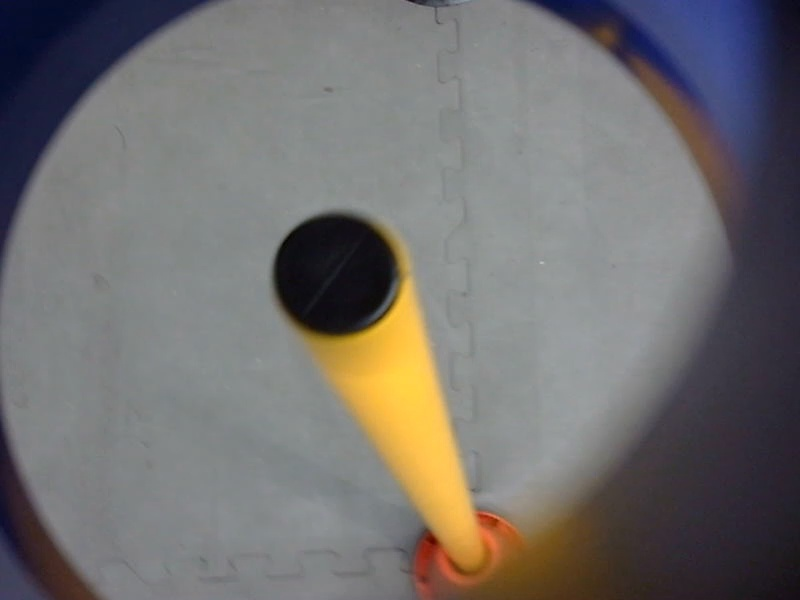tip: (262, 195, 415, 350)
